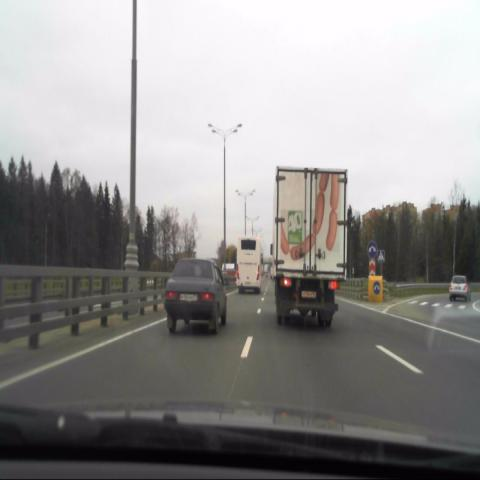4_2_3: (367, 241, 377, 259), (373, 281, 380, 294)
5_19_1: (377, 250, 384, 263)
